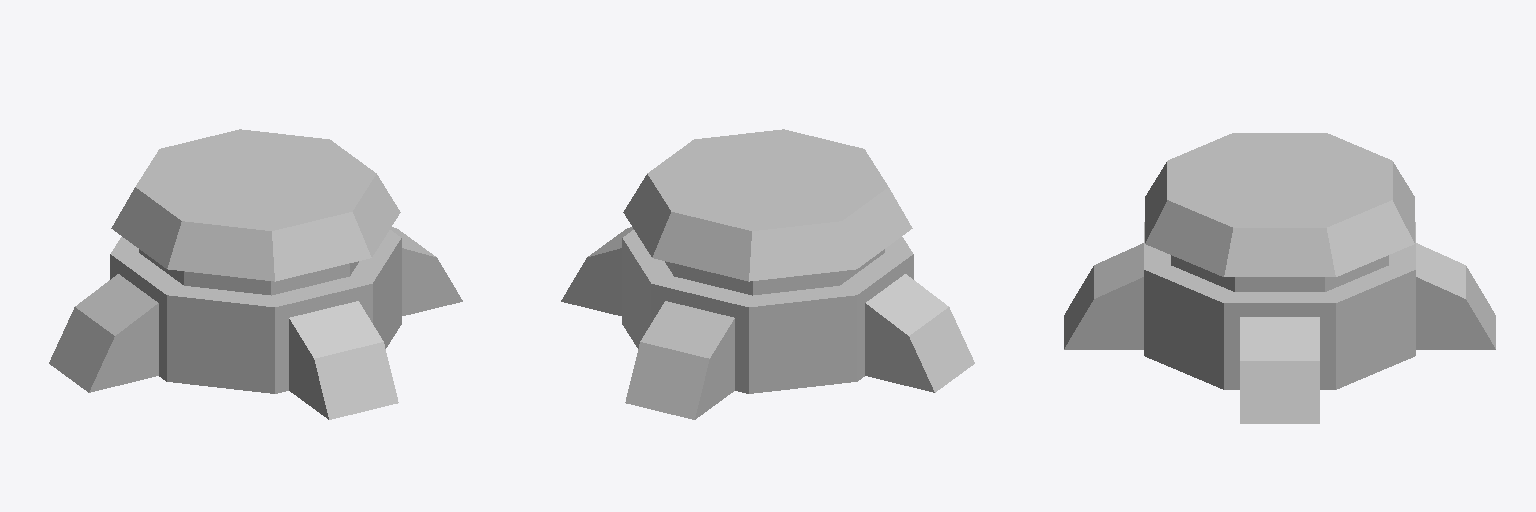
Rendered from 210730 P0210 starting to texture.obj.
3 views of the same model, side by side, from view 1: azimuth 30°, elevation 25°; view 2: azimuth 150°, elevation 25°; view 3: azimuth 270°, elevation 25° (orthographic).
Parts seen in each view (by area): view 1: Cylinder.001, Cylinder, Plane, Cube.001_Cube.009, Cube.002_Cube.001, Cube.003_Cube.010, Cylinder.003; view 2: Cylinder.001, Cylinder, Plane, Cube.007_Cube.011, Cube.002_Cube.001, Cube.003_Cube.010, Cylinder.003; view 3: Cylinder, Cylinder.001, Plane, Cube.003_Cube.010, Cube.001_Cube.009, Cube.007_Cube.011, Cylinder.003.
Boxes of the visible parts, box(x1,y1,x2,y2) form: Cylinder.001: box(111, 129, 400, 281); Cylinder: box(110, 230, 401, 393); Plane: box(158, 138, 353, 220); Cube.001_Cube.009: box(289, 301, 398, 419); Cube.002_Cube.001: box(49, 274, 158, 392); Cube.003_Cube.010: box(390, 227, 462, 315); Cylinder.003: box(139, 249, 358, 295); Cylinder.001: box(623, 129, 912, 281); Cylinder: box(622, 230, 913, 393); Plane: box(670, 138, 865, 220); Cube.007_Cube.011: box(625, 301, 734, 419); Cube.002_Cube.001: box(865, 274, 974, 392); Cube.003_Cube.010: box(561, 227, 633, 315); Cylinder.003: box(665, 249, 884, 295); Cylinder: box(1144, 222, 1415, 389); Cylinder.001: box(1145, 133, 1414, 276); Plane: box(1182, 138, 1377, 220); Cube.003_Cube.010: box(1240, 317, 1319, 423); Cube.001_Cube.009: box(1064, 243, 1143, 349); Cube.007_Cube.011: box(1416, 243, 1495, 349); Cylinder.003: box(1171, 255, 1388, 291).
Size of the model in its own units: 2.94 by 1.15 by 2.94.